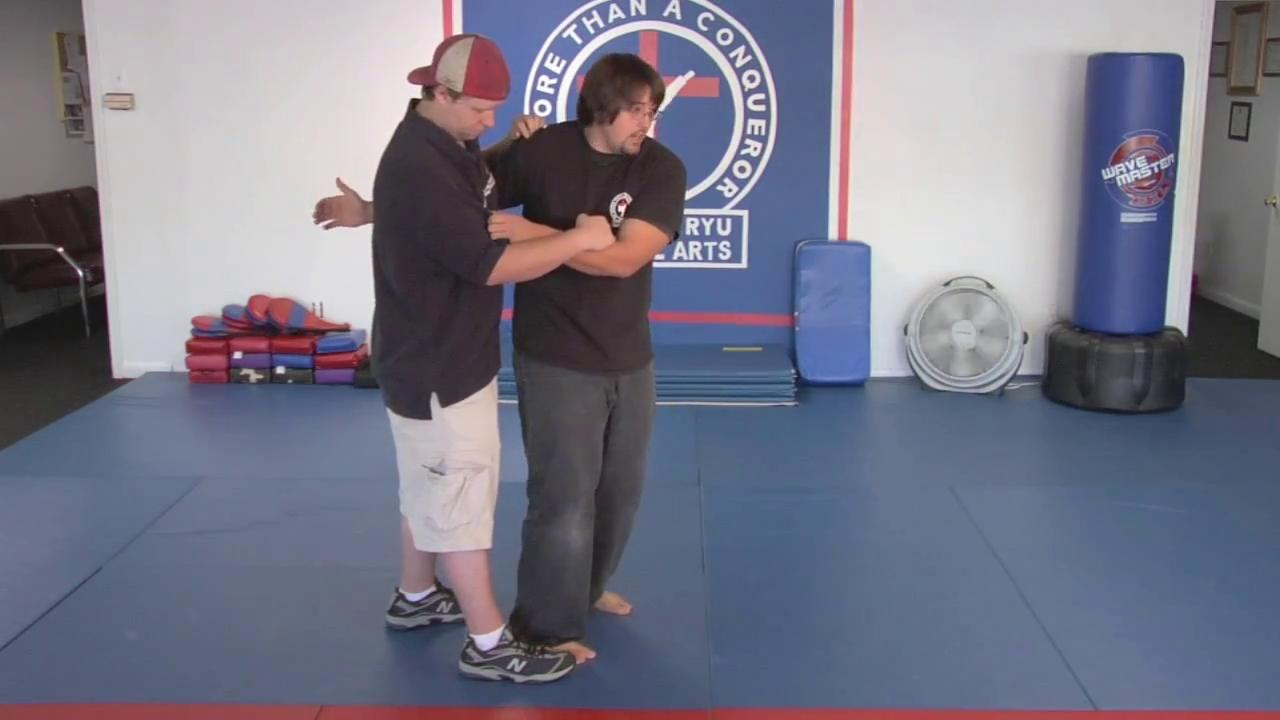victim: (359, 34, 579, 688), (494, 47, 688, 674)
